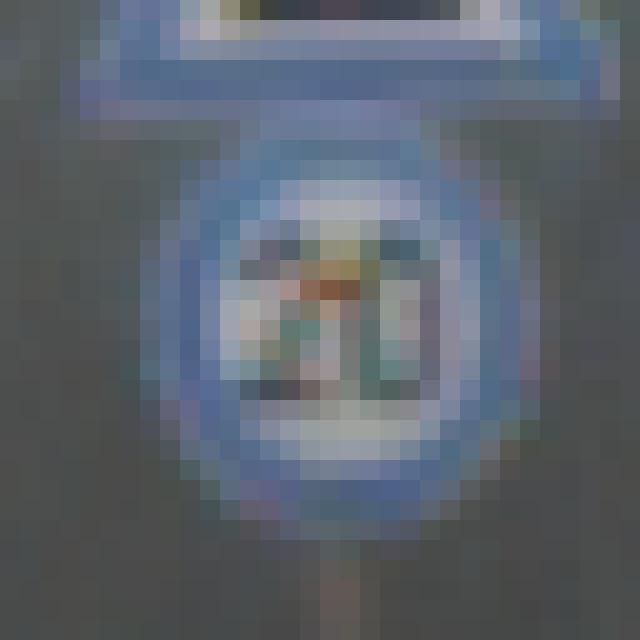SPEED LIMIT 20: (202, 156, 514, 494)
